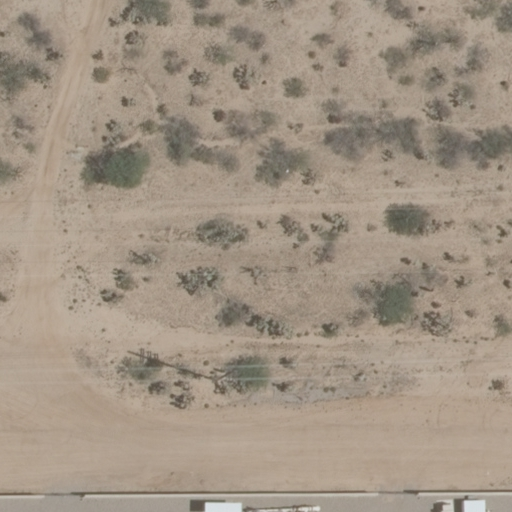DT: (208, 359, 247, 390)
